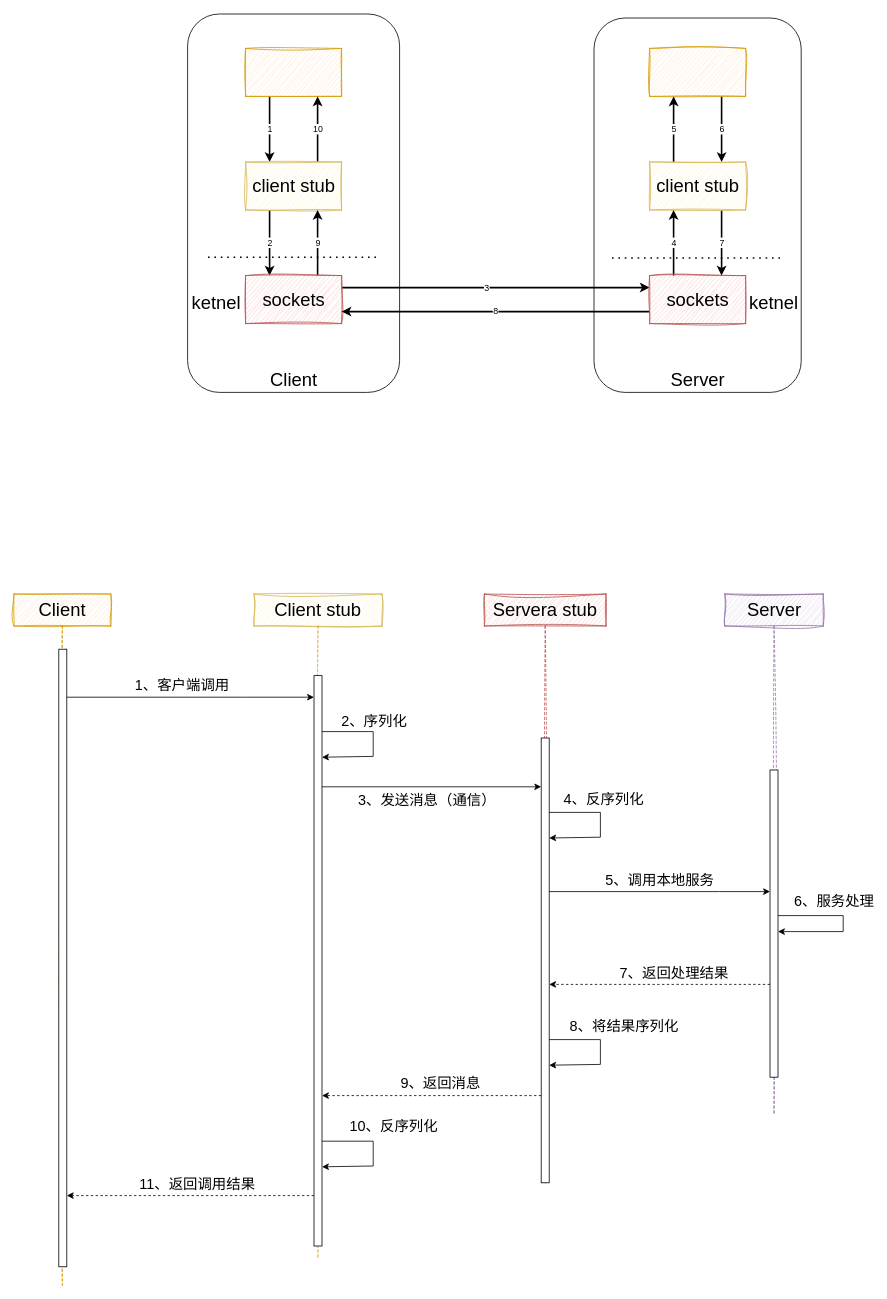
Some shapes in this 887 by 1299 pixel diagram are drawn without their labels. Each missing label, with the centre of its shape:
"client function" belongs at point (293, 72).
"server function" belongs at point (697, 72).
